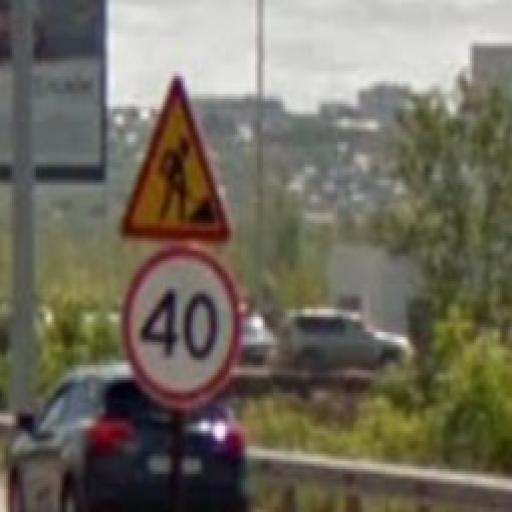traffic_sign: (117, 77, 234, 249), (121, 249, 244, 409)
